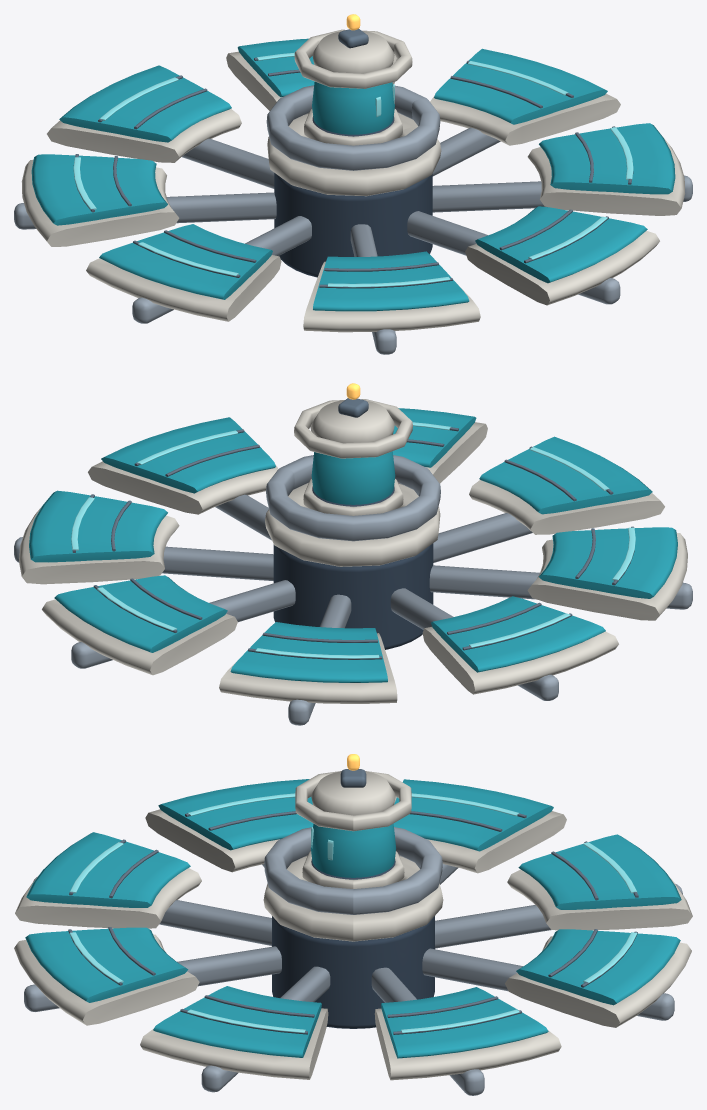
File: stellar_energy_array_lv5.glb
3 views of the same model, one above another, from view 1: azimuth 30°, elevation 25°; view 2: azimuth 150°, elevation 25°; view 3: azimuth 270°, elevation 25° (orthographic). The views are drawn at different scales.
Parts seen in each view (by area): view 1: Structure; view 2: Structure; view 3: Structure.
Boxes of the visible parts, <box> form: Structure: <box>14,14,692,354</box>; Structure: <box>14,383,692,725</box>; Structure: <box>14,754,692,1095</box>.
Size of the model in its own units: 9.56 by 3.75 by 9.56.
